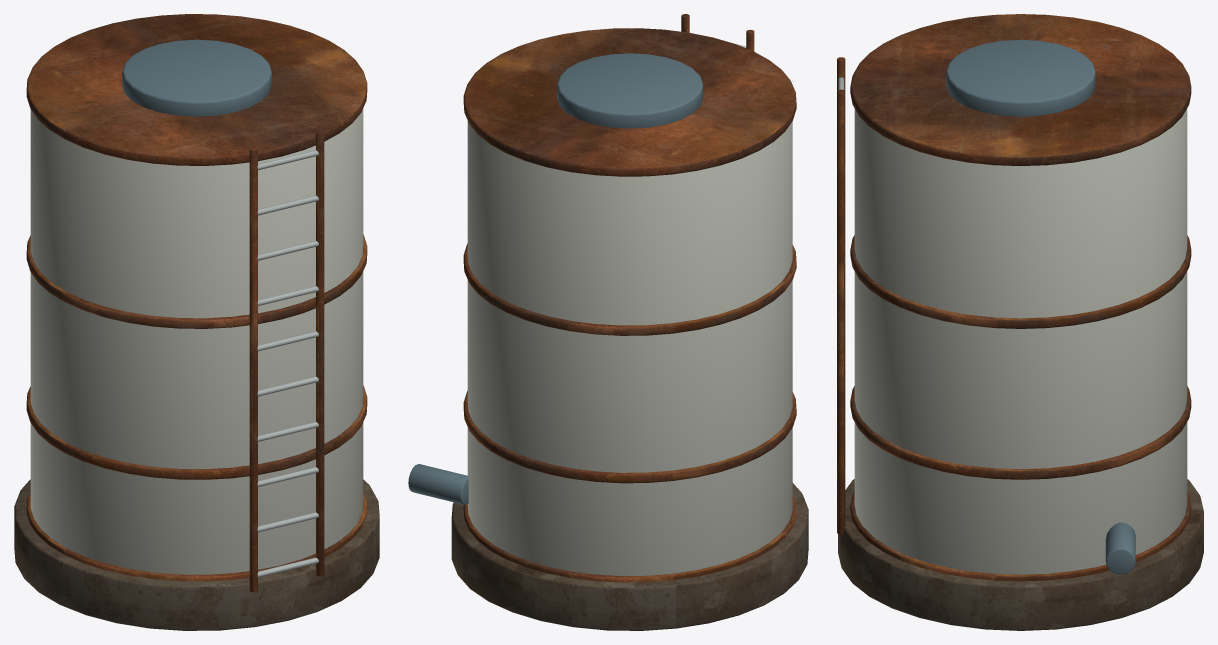
File: industrial-tank.glb
The picture shows the model from 3 angles, left to right: view 1: azimuth 30°, elevation 25°; view 2: azimuth 150°, elevation 25°; view 3: azimuth 270°, elevation 25°; orthographic projection. The views are drawn at different scales.
Parts seen in each view (by area): view 1: industrial-tank; view 2: industrial-tank; view 3: industrial-tank.
Boxes of the visible parts, left/top/right/bottom form: industrial-tank: left=14, top=14, right=379, bottom=630; industrial-tank: left=408, top=14, right=808, bottom=630; industrial-tank: left=837, top=14, right=1203, bottom=630.
Bounding box in the file's own units: 2.28 × 3.21 × 2.2.
Materials: 5 (2 with a texture image).
